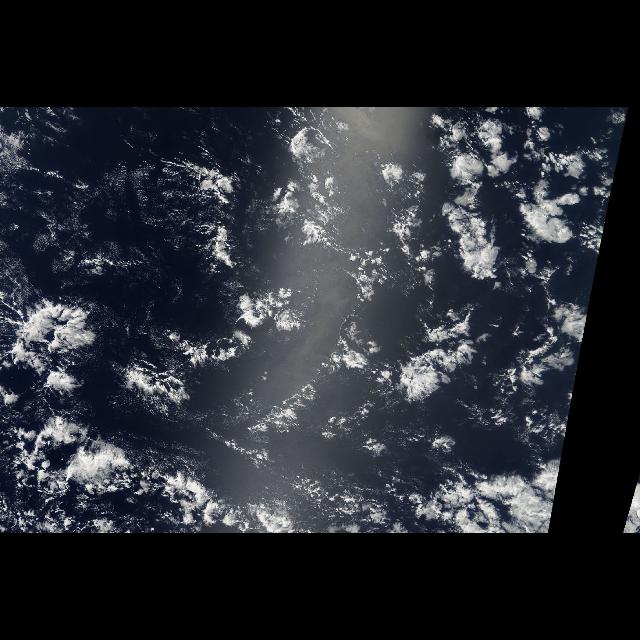Flower: (362, 115, 628, 451), (2, 276, 140, 532)
Gravel: (111, 132, 377, 462)
Sugar: (10, 135, 178, 265)
